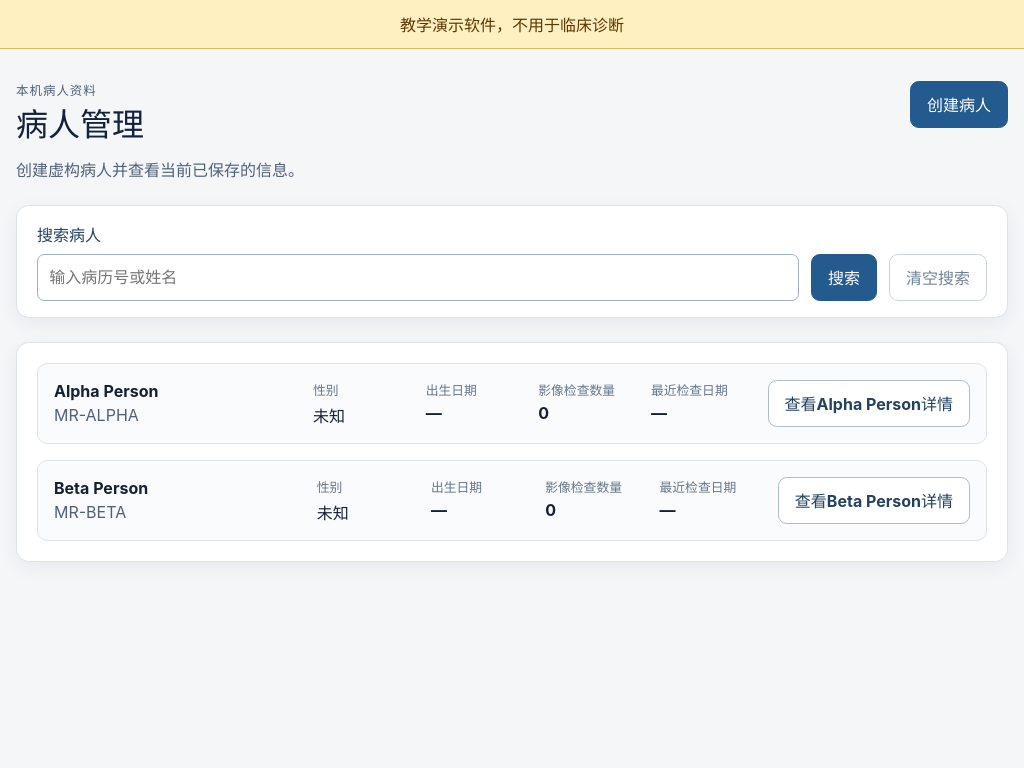
PatientManagementPage search flow › shows case-insensitive search results and restores the full list on clear
Expected: the text "Beta Person" is shown, [54, 478, 148, 498]
Type "  ALPHA  " into the field labelled "搜索病人" at (418, 277), box [37, 254, 799, 301]
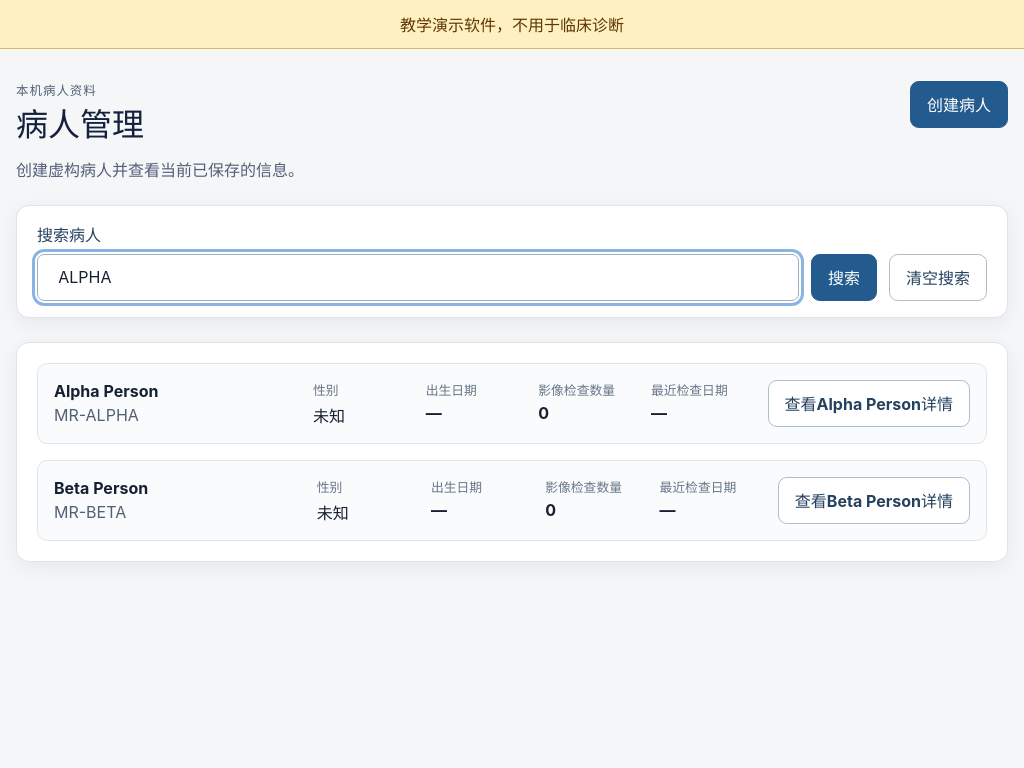
Click the button "搜索" at (844, 277), box [811, 254, 877, 301]
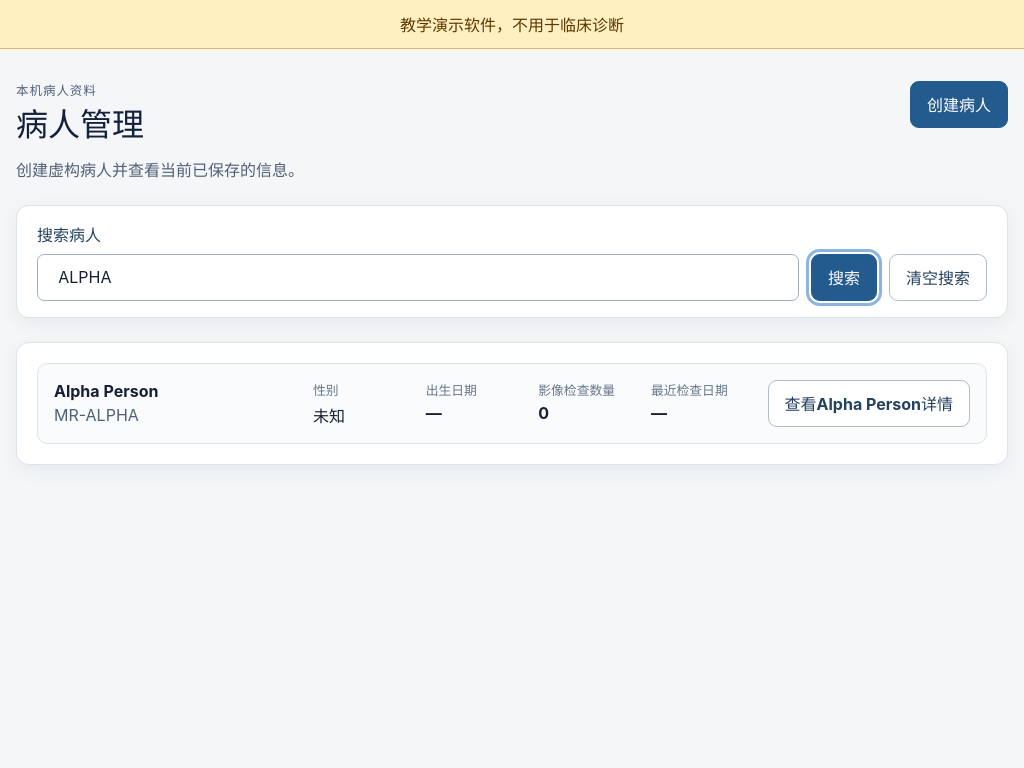
Expected: the text "Alpha Person" is shown, [54, 381, 158, 401]
Now the text "Beta Person" is gone
Click the button "清空搜索" at (938, 277), box [889, 254, 987, 301]
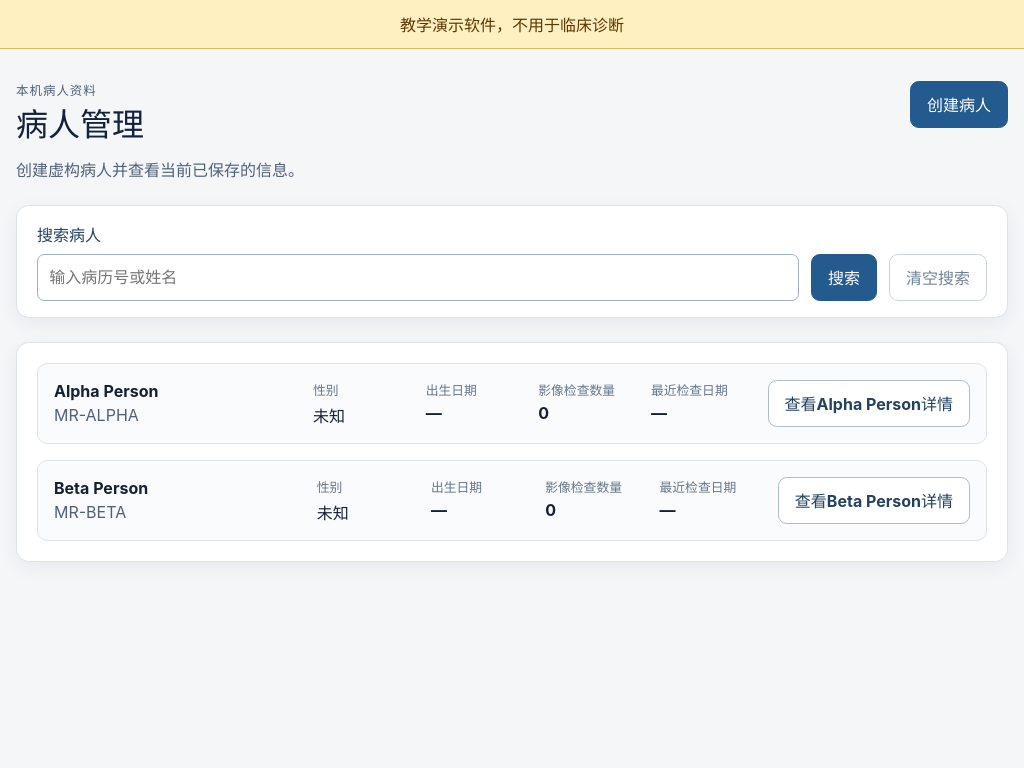
Now the text "Beta Person" is shown, box [54, 478, 148, 498]
